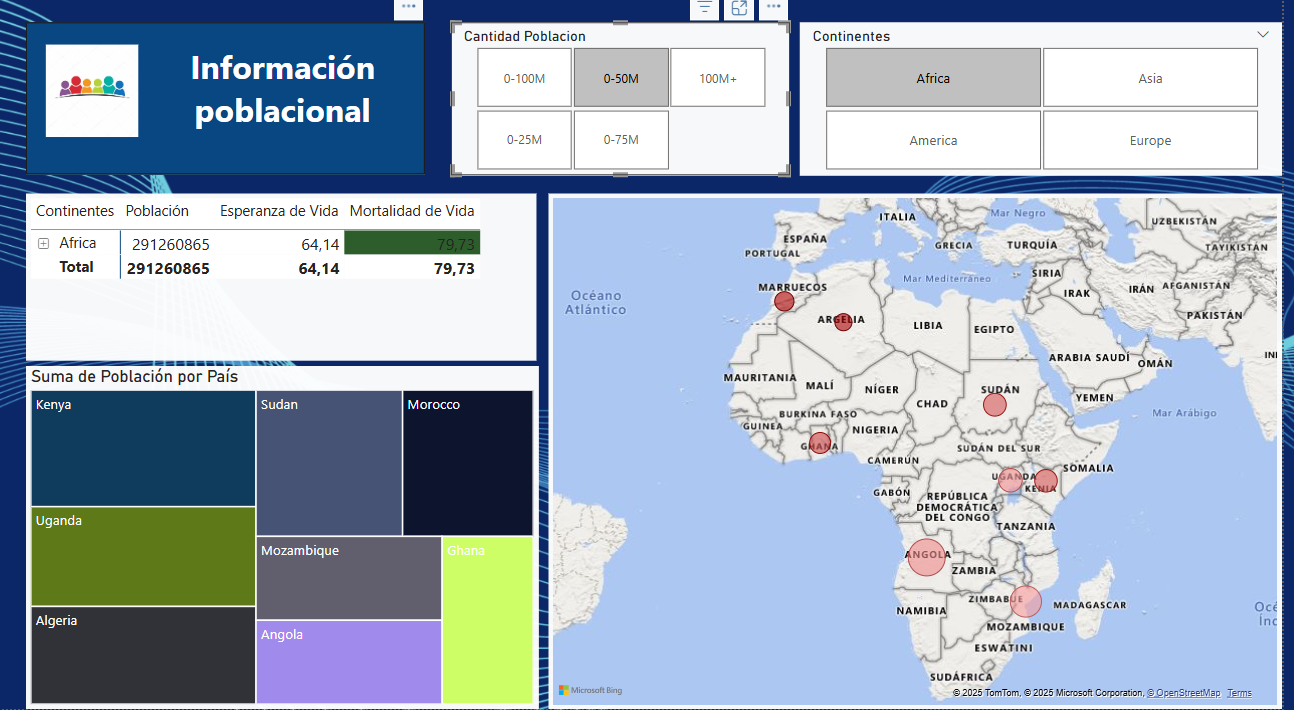

This screenshot's page, from the dashboard's own definition file:
{"tool":"powerbi","page":{"name":"Reporte 1","canvas":[1280,720],"ordinal":0},"visuals":[{"type":"shape","box":[30,36.7,396.7,151.7],"z":0},{"type":"pivotTable","fields":{"Values":["Sum(Population.Población)","Avg(Esperanza de Vida.Esperanza de Vida)","Avg(Mortalidad Infantil.Mortalidad de Vida)"],"Rows":["Countries.Jeraquia: Continente Y Pais.Continentes","Countries.Jeraquia: Continente Y Pais.País"]},"box":[30,206.7,508.3,166.7],"z":1000},{"type":"treemap","fields":{"Group":["Countries.País"],"Values":["Sum(Population.Población)"]},"box":[30,378.3,510,341.7],"z":2000},{"type":"slicer","fields":{"Values":["Population.Cantidad Poblacion"]},"box":[452.8,36.1,337.1,153],"z":3000},{"type":"slicer","fields":{"Values":["Countries.Continentes"]},"box":[799.9,36.1,480.2,153],"z":4000},{"type":"map","fields":{"Size":["Avg(Mortalidad Infantil.Mortalidad de Vida)"],"Category":["Countries.Jeraquia: Continente Y Pais.País"]},"box":[549.8,206.5,730.2,513.8],"z":5000},{"type":"image","box":[0,53.3,191.7,101.7],"z":6000},{"type":"textbox","box":[111.7,53.3,346.7,101.7],"z":7000}]}

Visuals, with their boxes in screenshot pixels (x1, y1, x2, y2), scaled from the page's 1280x720 canvas onto the 1294x710 screenshot:
shape: 30,36,431,186
pivotTable - Sum(Population.Población) x Avg(Esperanza de Vida.Esperanza de Vida): 30,204,544,368
treemap - Countries.País x Sum(Population.Población): 30,373,546,709
slicer - Population.Cantidad Poblacion: 458,36,799,186
slicer - Countries.Continentes: 809,36,1293,186
map - Avg(Mortalidad Infantil.Mortalidad de Vida) x Countries.Jeraquia: Continente Y Pais.País: 556,204,1293,709
image: 0,53,194,153
textbox: 113,53,463,153
